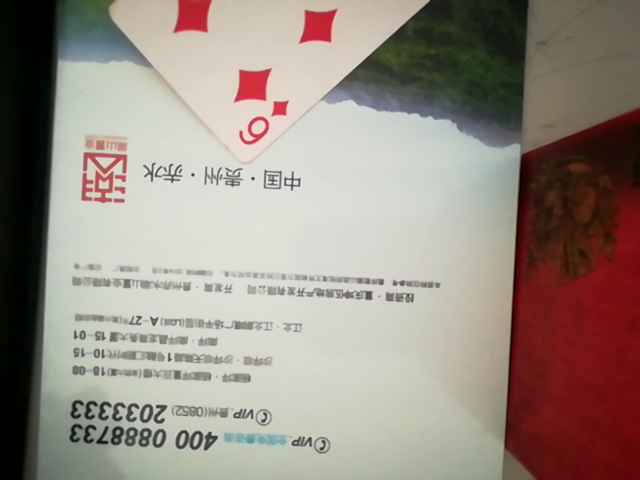fk 6: (82, 0, 451, 161)
